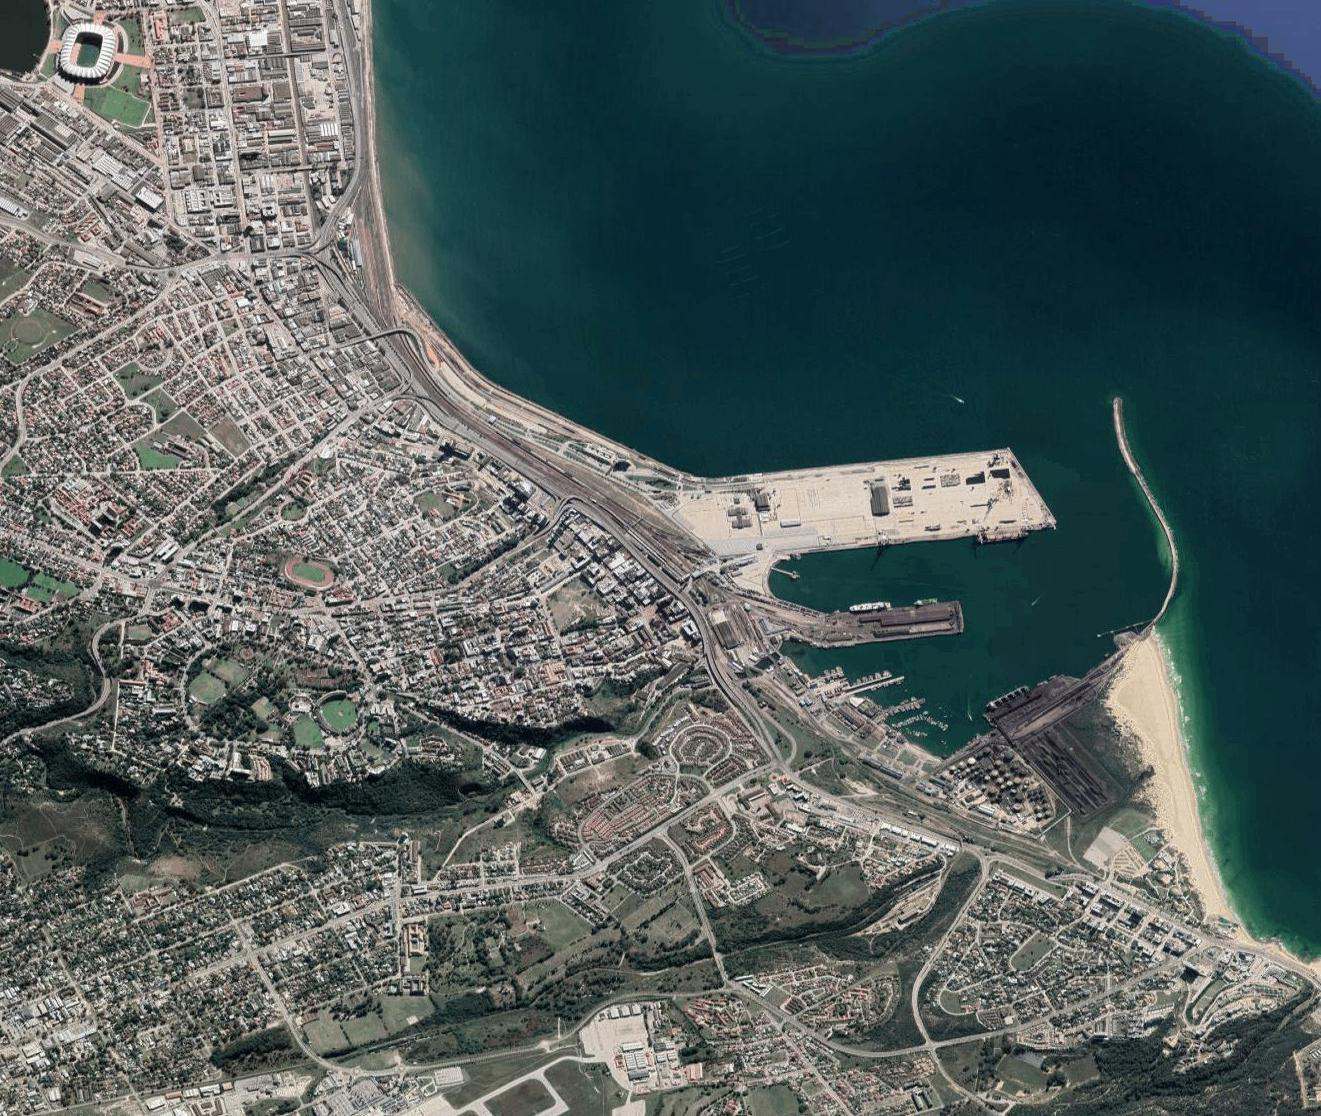harbor: (753, 369, 1191, 786)
motorway: (596, 516, 696, 613), (474, 430, 589, 513), (383, 343, 471, 440), (320, 254, 390, 348), (319, 152, 367, 250), (692, 611, 737, 704)
train_station: (625, 512, 703, 588)
